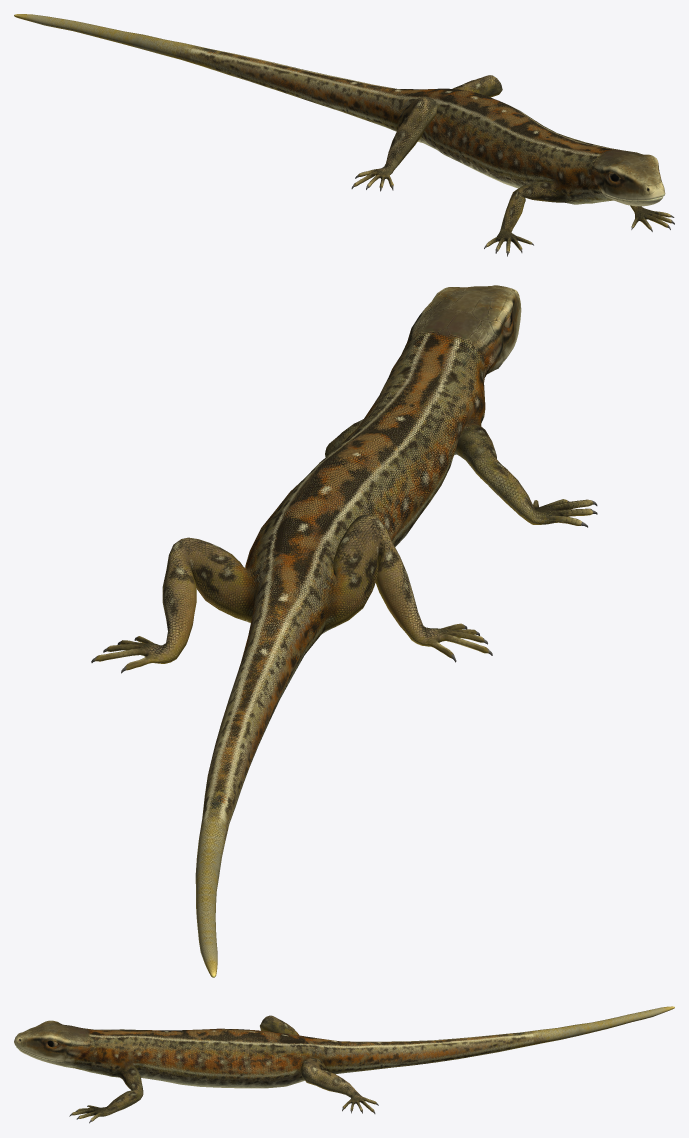
The model's file is Running337.obj.
The picture shows the model from 3 angles, top to bottom: view 1: azimuth 30°, elevation 25°; view 2: azimuth 150°, elevation 25°; view 3: azimuth 270°, elevation 25°; orthographic projection. The views are drawn at different scales.
Visible parts, largest first — view 1: Lizard; view 2: Lizard; view 3: Lizard.
Boxes of the visible parts, <box> form: Lizard: <box>14,14,674,256</box>; Lizard: <box>91,285,597,977</box>; Lizard: <box>14,1006,674,1123</box>.
Size of the model in its own units: 40.02 by 12.09 by 98.79.
